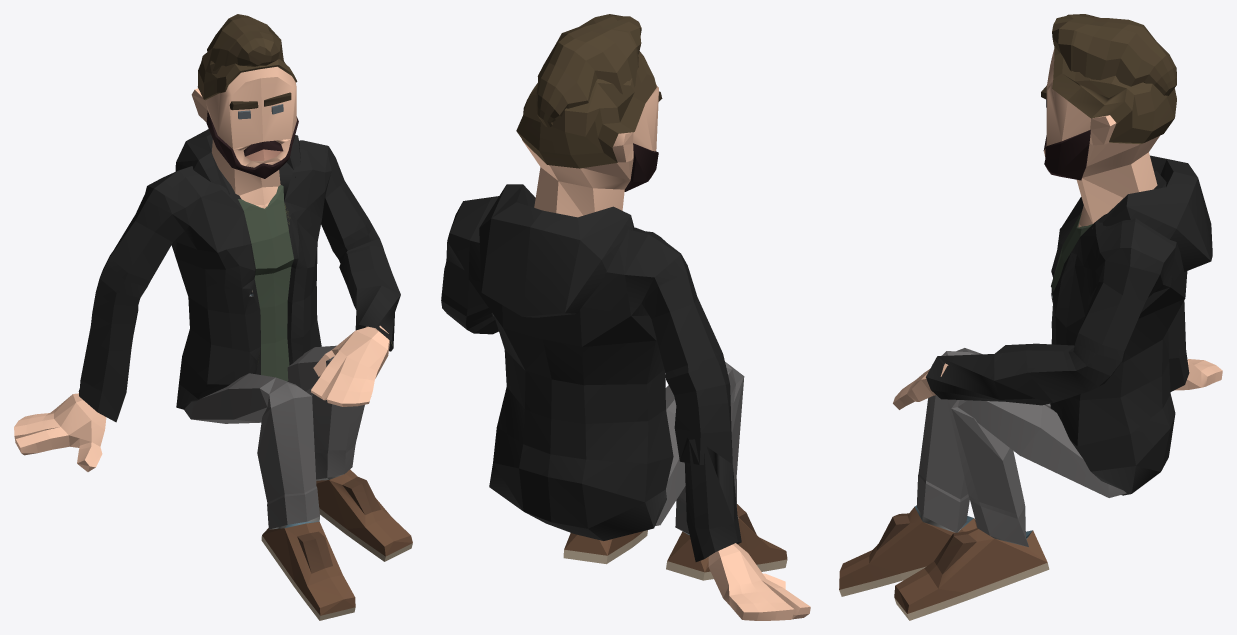
The model's file is sam.fbx.
The picture shows the model from 3 angles, left to right: view 1: azimuth 30°, elevation 25°; view 2: azimuth 150°, elevation 25°; view 3: azimuth 270°, elevation 25°; orthographic projection. The views are drawn at different scales.
Parts seen in each view (by area): view 1: Brendan.065; view 2: Brendan.065; view 3: Brendan.065.
Boxes of the visible parts, <box> form: Brendan.065: <box>14,14,412,620</box>; Brendan.065: <box>441,14,810,620</box>; Brendan.065: <box>839,14,1222,620</box>.
Size of the model in its own units: 92.06 by 136 by 81.38.
1 material, 1 textured.
